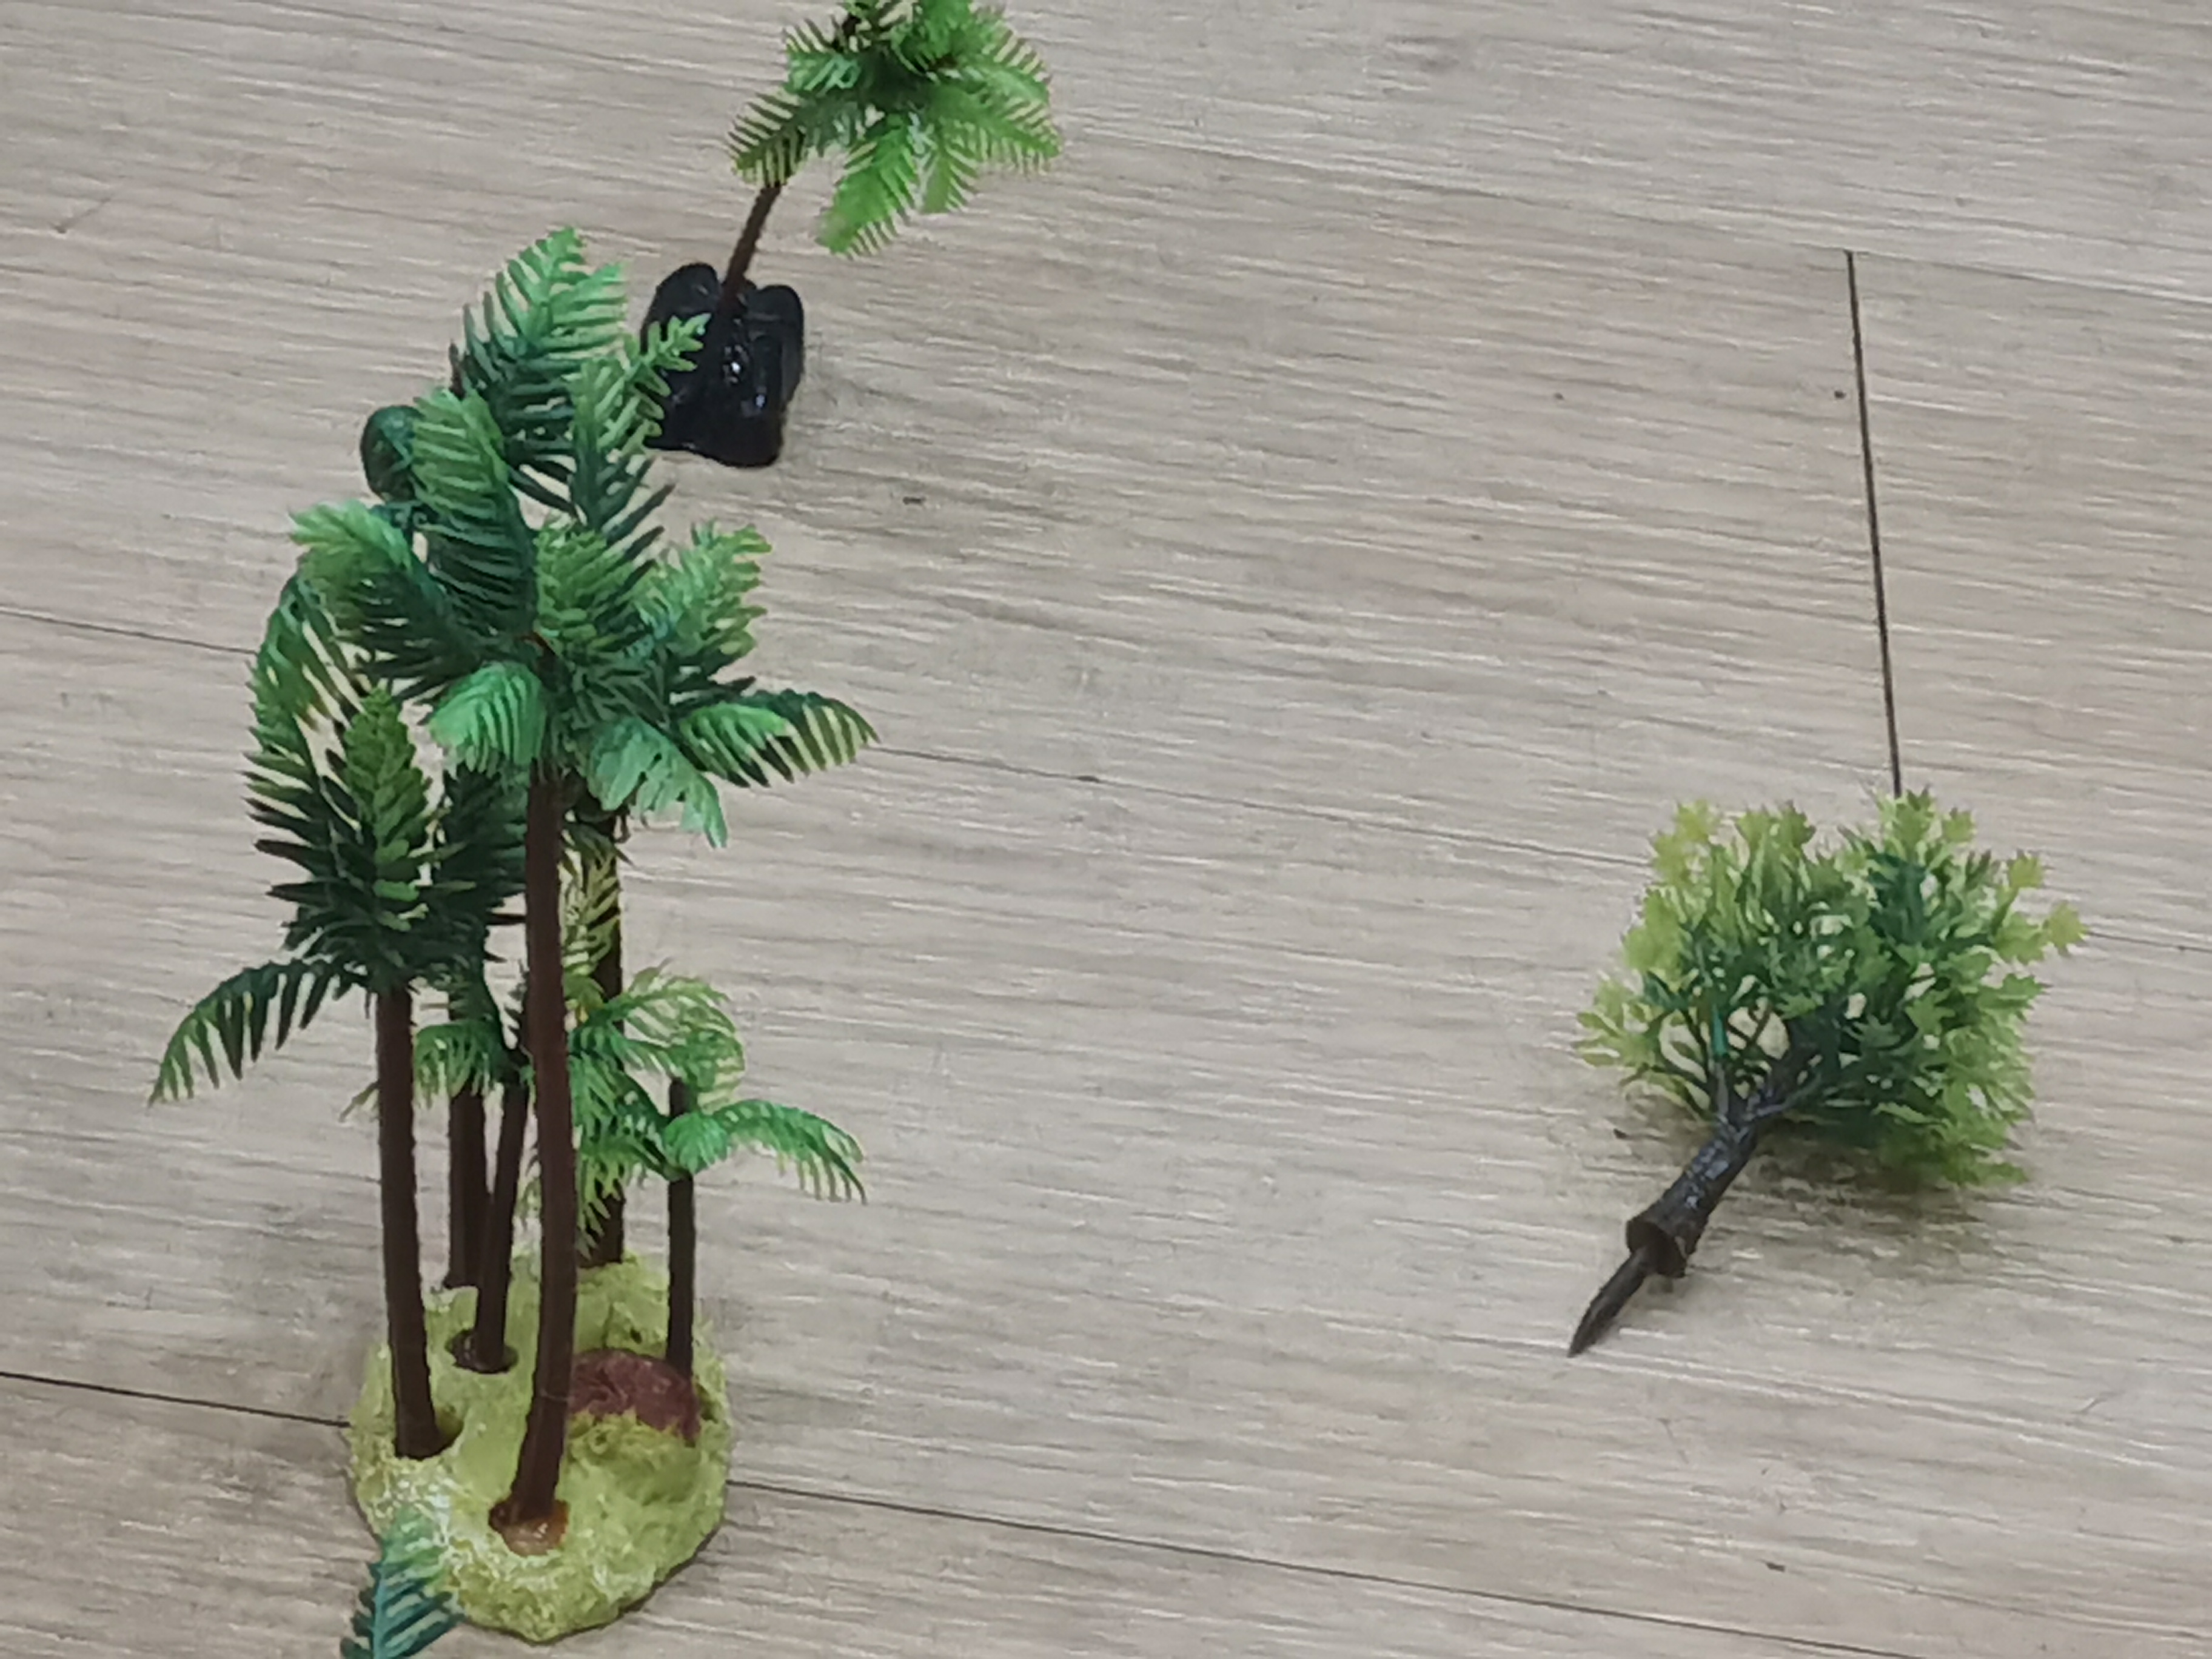corn: (111, 207, 930, 1635), (617, 9, 1076, 460)
